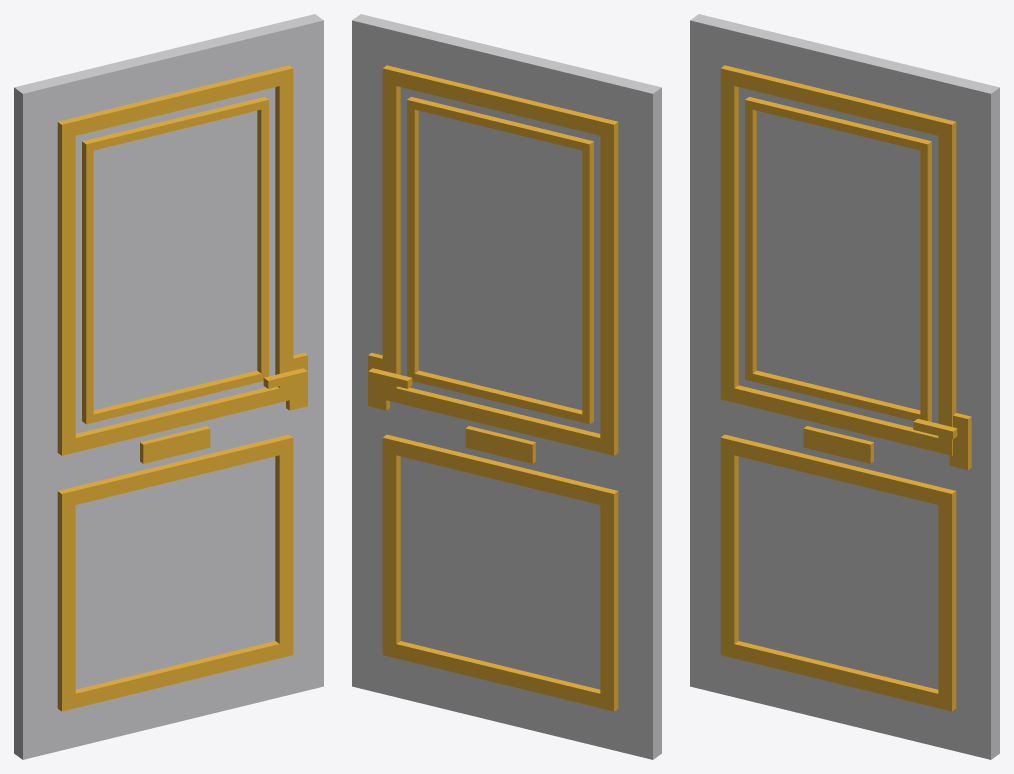
Rendered from SM_Door_obelisk_inner_100x210.fbx.
3 views of the same model, side by side, from view 1: azimuth 30°, elevation 25°; view 2: azimuth 150°, elevation 25°; view 3: azimuth 330°, elevation 25° (orthographic).
Parts seen in each view (by area): view 1: SM_Door_obelisk_inner_100x210; view 2: SM_Door_obelisk_inner_100x210; view 3: SM_Door_obelisk_inner_100x210.
Part boxes in pixels (x1=…): SM_Door_obelisk_inner_100x210: x1=14, y1=14, x2=323, y2=759; SM_Door_obelisk_inner_100x210: x1=352, y1=14, x2=661, y2=759; SM_Door_obelisk_inner_100x210: x1=690, y1=14, x2=999, y2=759.
Bounding box in the file's own units: 0.988 × 2.09 × 0.175.
